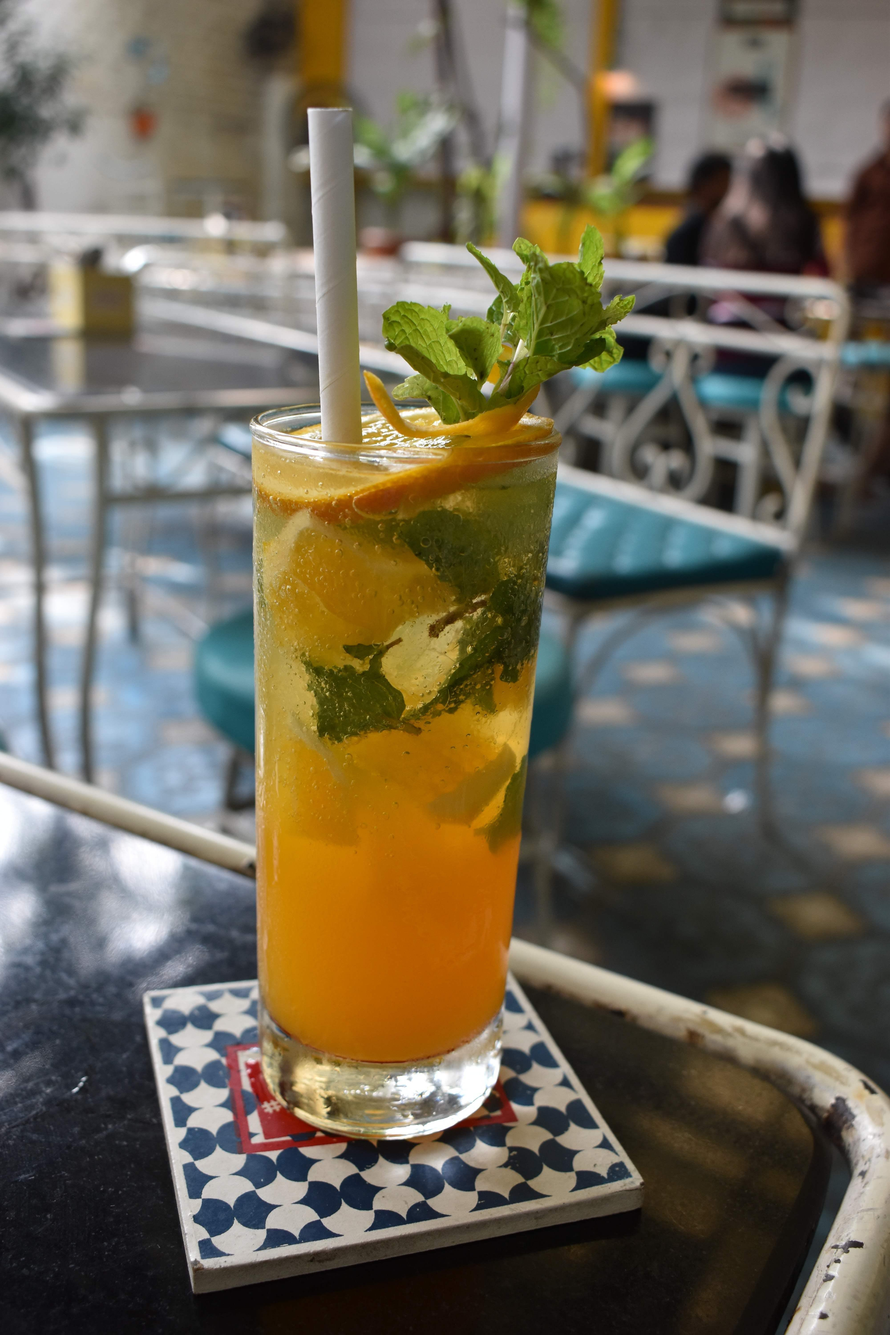glass-normal: (244, 388, 565, 1141)
